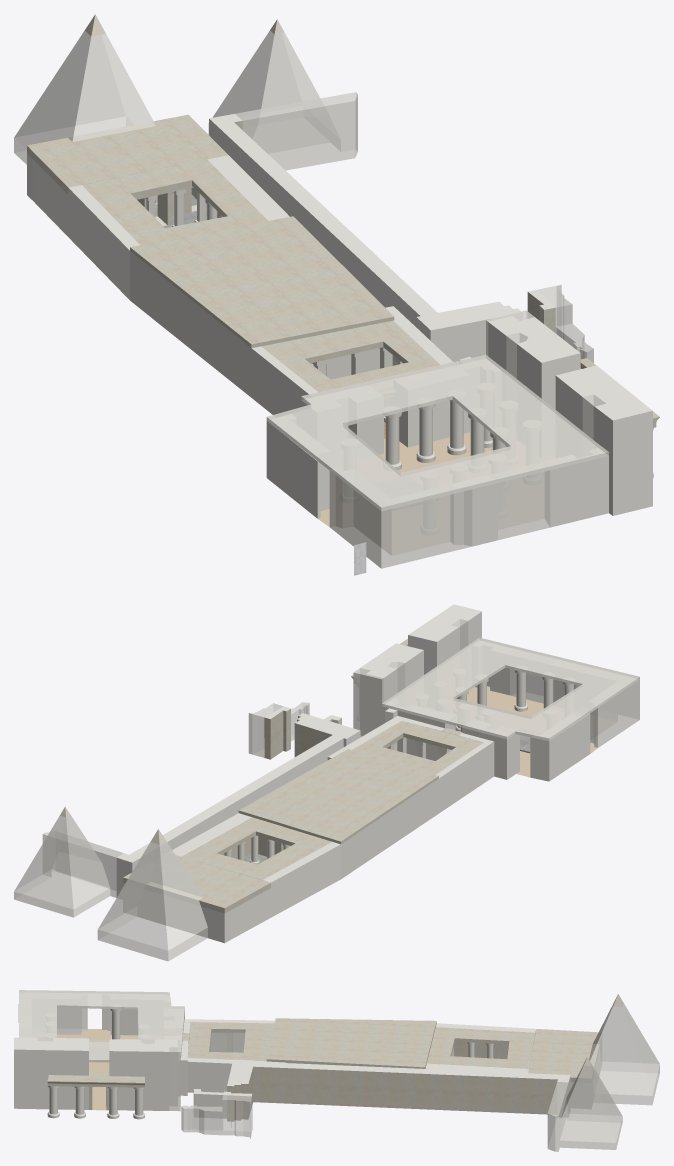
3 views of the same model, one above another, from view 1: azimuth 30°, elevation 25°; view 2: azimuth 150°, elevation 25°; view 3: azimuth 270°, elevation 25° (orthographic). The views are drawn at different scales.
Parts seen in each view (by area): view 1: Mesh10 ROOF1 G_219_1 Model, Mesh54 Tomb_211_1 Model, Mesh30 G_219_1 Model, Mesh51 Roof_211_1 Tomb_211_1 Model, Mesh56 Model, Mesh37 UNKNOWN1 Tomb_211_1 Model, Mesh11 ROOF1 G_219_1 Model, Mesh39 UNKNOWN1 Tomb_211_1 Model, Mesh55 Model, Mesh58 Model, Mesh44 Round_Column_1_8 Tomb_211_1 Model, Mesh57 Model (+2 smaller); view 2: Mesh30 G_219_1 Model, Mesh10 ROOF1 G_219_1 Model, Mesh54 Tomb_211_1 Model, Mesh56 Model, Mesh51 Roof_211_1 Tomb_211_1 Model, Mesh11 ROOF1 G_219_1 Model, Mesh37 UNKNOWN1 Tomb_211_1 Model, Mesh55 Model, Mesh38 UNKNOWN1 Tomb_211_1 Model, Mesh39 UNKNOWN1 Tomb_211_1 Model, Mesh58 Model, Mesh57 Model; view 3: Mesh56 Model, Mesh10 ROOF1 G_219_1 Model, Mesh54 Tomb_211_1 Model, Mesh30 G_219_1 Model, Mesh51 Roof_211_1 Tomb_211_1 Model, Mesh11 ROOF1 G_219_1 Model, Mesh55 Model, Mesh37 UNKNOWN1 Tomb_211_1 Model, Mesh38 UNKNOWN1 Tomb_211_1 Model, Mesh58 Model, Mesh49 Round_Column_1_13 Tomb_211_1 Model, Mesh53 Round_Column_1_16 Tomb_211_1 Model (+4 smaller).
Boxes of the visible parts, x1=… form: Mesh10 ROOF1 G_219_1 Model: x1=82, y1=159, x2=439, y2=392; Mesh54 Tomb_211_1 Model: x1=266, y1=316, x2=659, y2=563; Mesh30 G_219_1 Model: x1=14, y1=14, x2=452, y2=438; Mesh51 Roof_211_1 Tomb_211_1 Model: x1=266, y1=355, x2=608, y2=511; Mesh56 Model: x1=208, y1=19, x2=520, y2=361; Mesh37 UNKNOWN1 Tomb_211_1 Model: x1=329, y1=469, x2=472, y2=568; Mesh11 ROOF1 G_219_1 Model: x1=27, y1=114, x2=228, y2=194; Mesh39 UNKNOWN1 Tomb_211_1 Model: x1=488, y1=469, x2=550, y2=540; Mesh55 Model: x1=527, y1=285, x2=593, y2=363; Mesh58 Model: x1=68, y1=185, x2=139, y2=250; Mesh44 Round_Column_1_8 Tomb_211_1 Model: x1=416, y1=398, x2=435, y2=462; Mesh57 Model: x1=207, y1=155, x2=289, y2=220; Mesh30 G_219_1 Model: x1=97, y1=716, x2=494, y2=961; Mesh10 ROOF1 G_219_1 Model: x1=182, y1=721, x2=483, y2=880; Mesh54 Tomb_211_1 Model: x1=351, y1=604, x2=629, y2=781; Mesh56 Model: x1=14, y1=713, x2=360, y2=917; Mesh51 Roof_211_1 Tomb_211_1 Model: x1=382, y1=637, x2=639, y2=740; Mesh11 ROOF1 G_219_1 Model: x1=123, y1=853, x2=270, y2=913; Mesh37 UNKNOWN1 Tomb_211_1 Model: x1=576, y1=664, x2=639, y2=747; Mesh55 Model: x1=248, y1=702, x2=309, y2=759; Mesh38 UNKNOWN1 Tomb_211_1 Model: x1=353, y1=668, x2=387, y2=736; Mesh39 UNKNOWN1 Tomb_211_1 Model: x1=510, y1=651, x2=556, y2=703; Mesh58 Model: x1=263, y1=842, x2=340, y2=882; Mesh57 Model: x1=169, y1=813, x2=251, y2=856; Mesh56 Model: x1=193, y1=1057, x2=622, y2=1151; Mesh10 ROOF1 G_219_1 Model: x1=188, y1=1018, x2=535, y2=1068; Mesh54 Tomb_211_1 Model: x1=14, y1=994, x2=187, y2=1110; Mesh30 G_219_1 Model: x1=181, y1=994, x2=659, y2=1108; Mesh51 Roof_211_1 Tomb_211_1 Model: x1=19, y1=990, x2=184, y2=1062; Mesh11 ROOF1 G_219_1 Model: x1=528, y1=1029, x2=601, y2=1082; Mesh55 Model: x1=181, y1=1091, x2=252, y2=1138; Mesh37 UNKNOWN1 Tomb_211_1 Model: x1=19, y1=992, x2=87, y2=1034; Mesh38 UNKNOWN1 Tomb_211_1 Model: x1=169, y1=1039, x2=180, y2=1111; Mesh58 Model: x1=436, y1=1023, x2=536, y2=1032; Mesh49 Round_Column_1_13 Tomb_211_1 Model: x1=110, y1=1004, x2=121, y2=1039; Mesh53 Round_Column_1_16 Tomb_211_1 Model: x1=74, y1=1086, x2=85, y2=1118.
Bounding box in the file's own units: 24 × 7.95 × 49.49.
14 materials, 4 textured.
